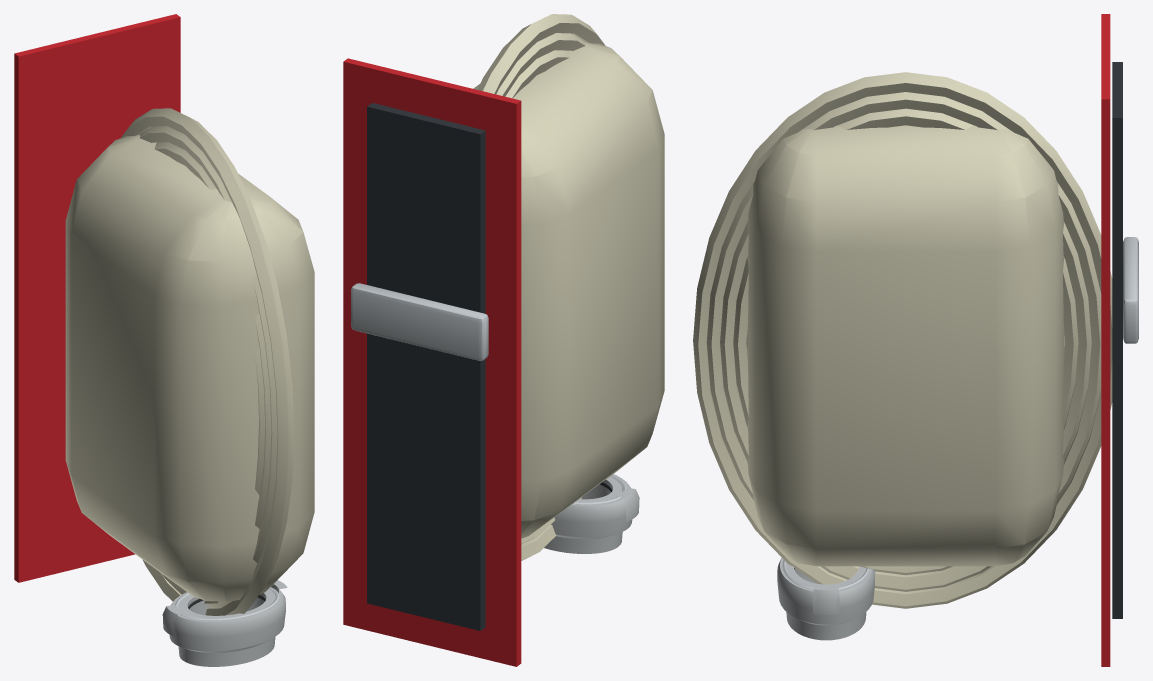
The model's file is ob_closed_case_g4_2.glb.
3 renders of one model, left to right at view 1: azimuth 30°, elevation 25°; view 2: azimuth 150°, elevation 25°; view 3: azimuth 270°, elevation 25°, orthographic. The views are drawn at different scales.
Visible parts, largest first — view 1: ob_closed_case_g4_2; view 2: ob_closed_case_g4_2; view 3: ob_closed_case_g4_2.
Part boxes in pixels (left/top/right/bottom): ob_closed_case_g4_2: left=14, top=14, right=314, bottom=666; ob_closed_case_g4_2: left=343, top=14, right=664, bottom=666; ob_closed_case_g4_2: left=693, top=14, right=1138, bottom=666.
Bounding box in the file's own units: 0.19 × 0.59 × 0.42.
